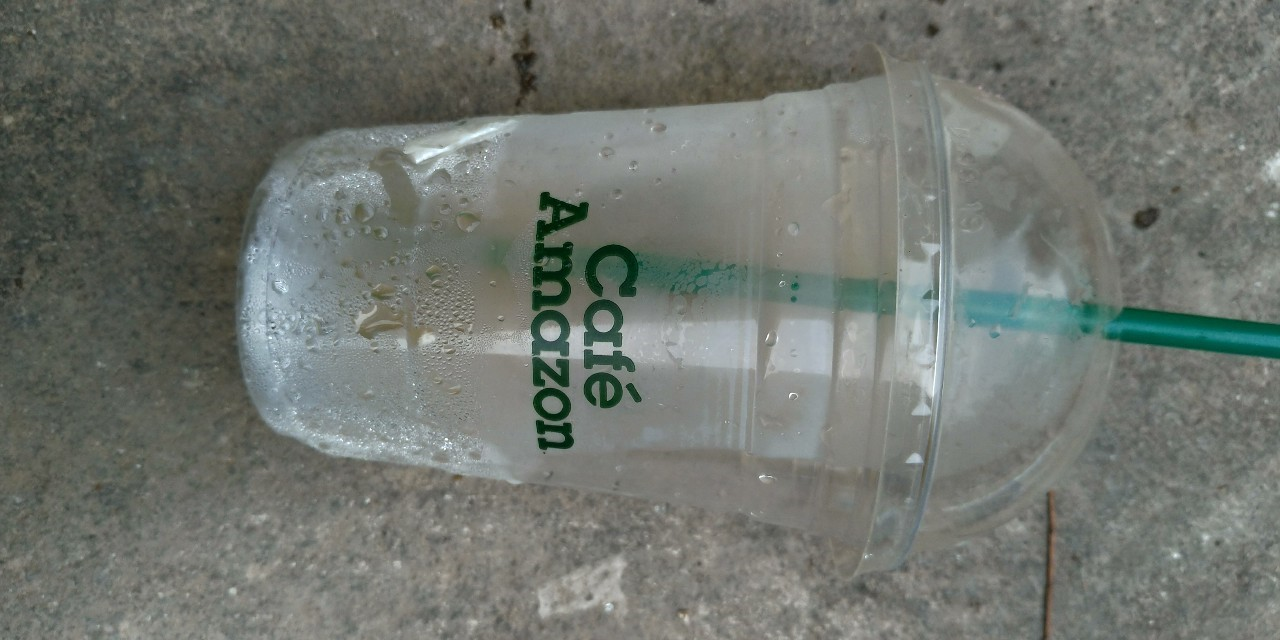PlasticCup: (238, 45, 1120, 556)
